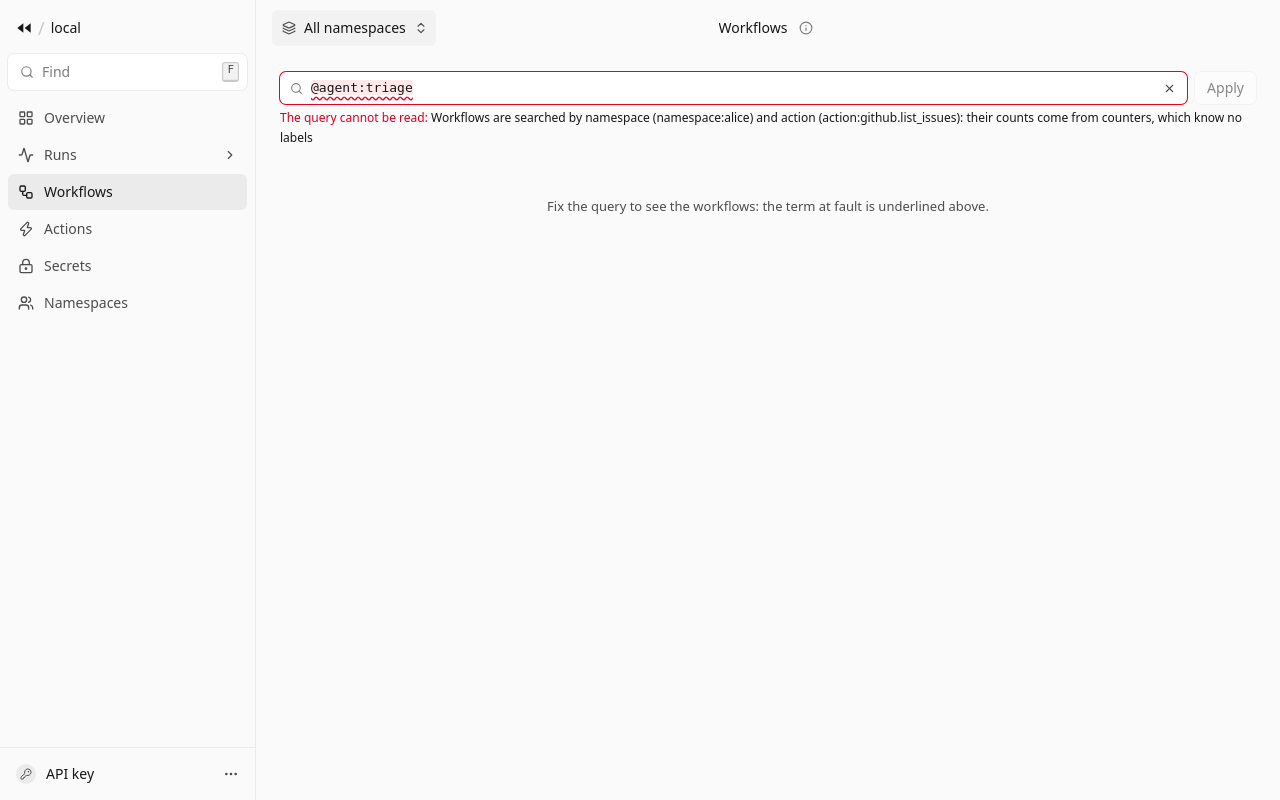
Test case: WorkflowsView › underlines a label, which the counters know nothing of, and what the list cannot read
Check: the message shows "know no labels", box top-left (280, 109), bottom-right (1242, 146)
Clear the dropdown named "Query" at (729, 88), box top-left (309, 72), bottom-right (1149, 104)
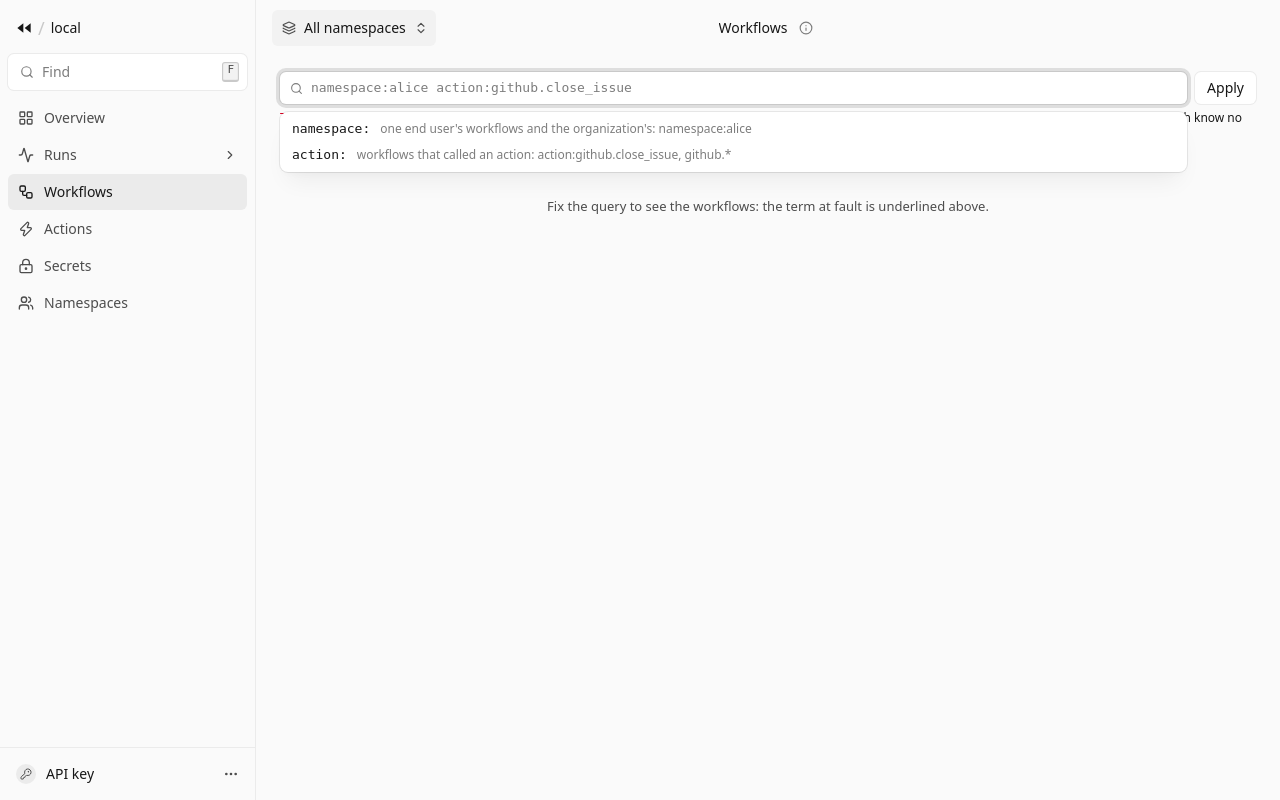
Type "status:failed" into the dropdown named "Query" at (746, 88), box top-left (309, 72), bottom-right (1183, 104)
Then press Enter
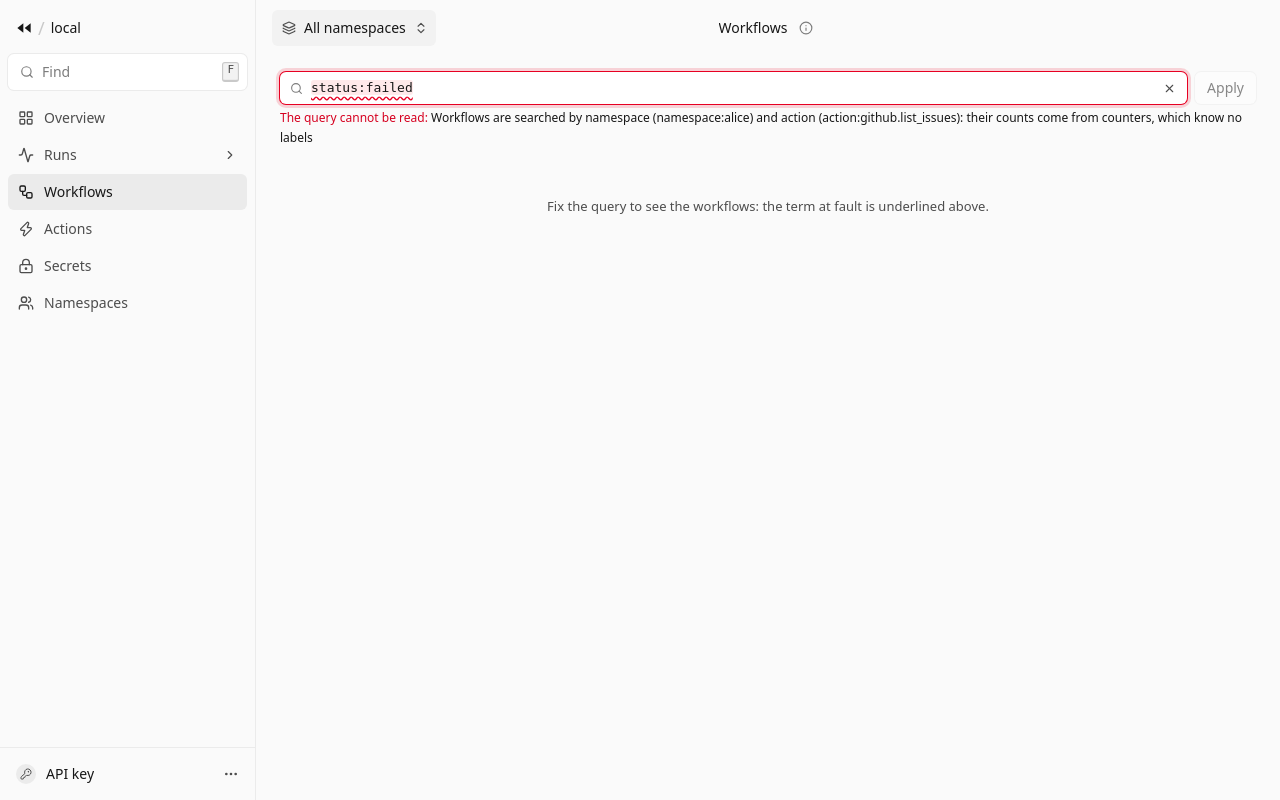
Check: the message shows "searched by namespace", box top-left (280, 109), bottom-right (1242, 146)
Check: the dropdown named "Query" is marked as invalid, box top-left (309, 72), bottom-right (1149, 104)
